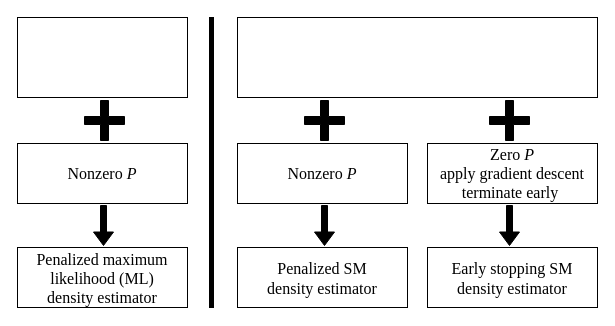
The diagram is 615 pixels wide and 326 high, and some of its shapes have lost their labels. The box of each missing label's shape, as (x1, y1, x2, y2) in pixels:
Negative log-likelihood (NLL) loss functional: (16, 16, 188, 98)
Score matching (SM) loss functional: (236, 16, 598, 98)
